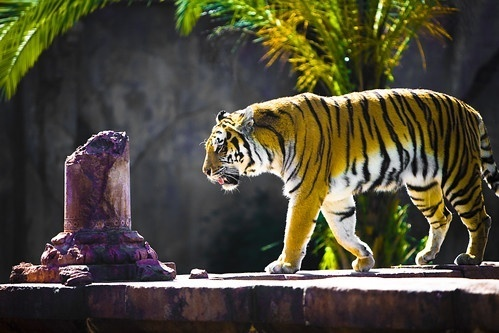tigre: (202, 85, 492, 274)
